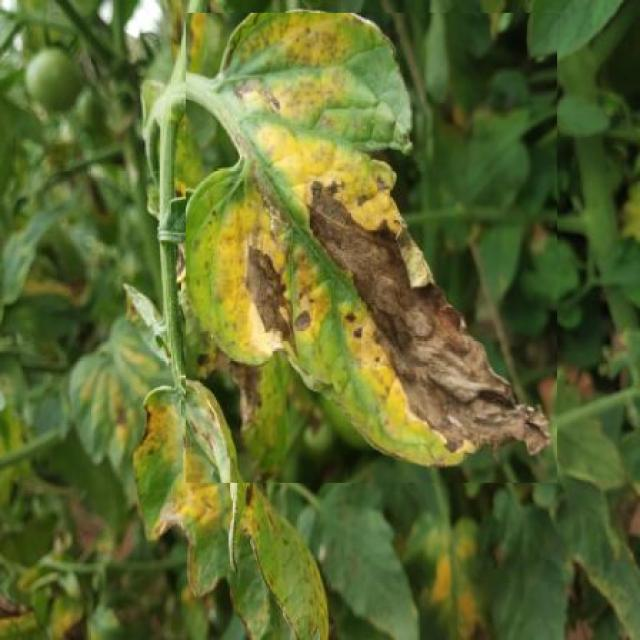Early Blight: (185, 13, 558, 483)
